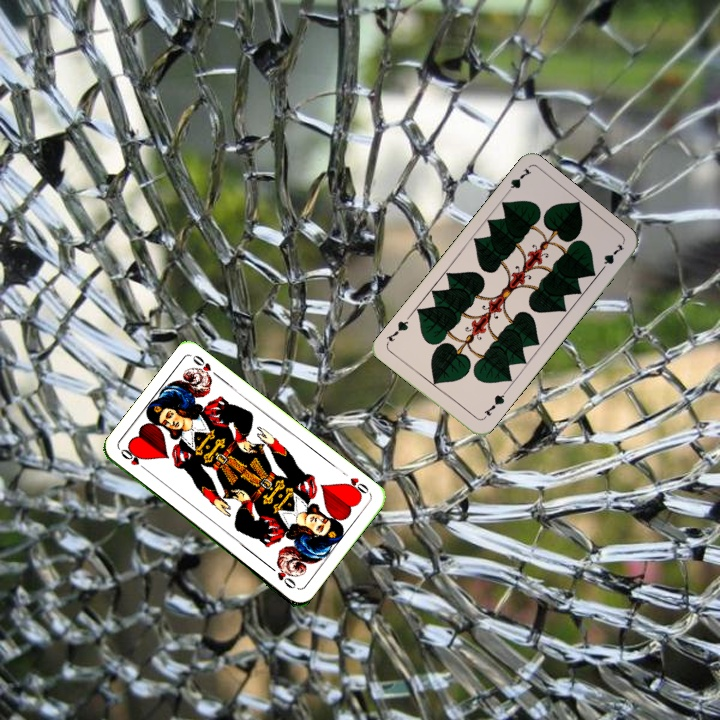G7: (501, 164, 534, 199), (478, 388, 508, 422)
HO: (338, 467, 373, 499), (116, 445, 151, 475)
